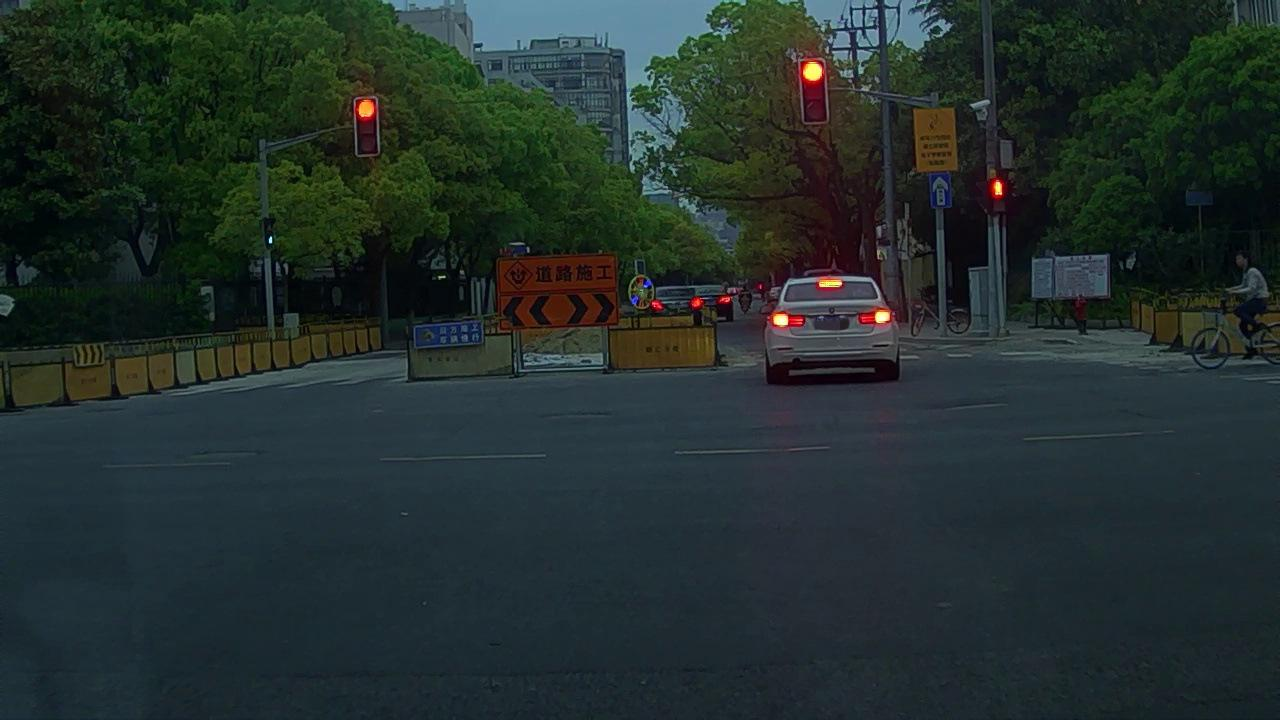traffic_light: (799, 58, 829, 121), (352, 93, 381, 158)
